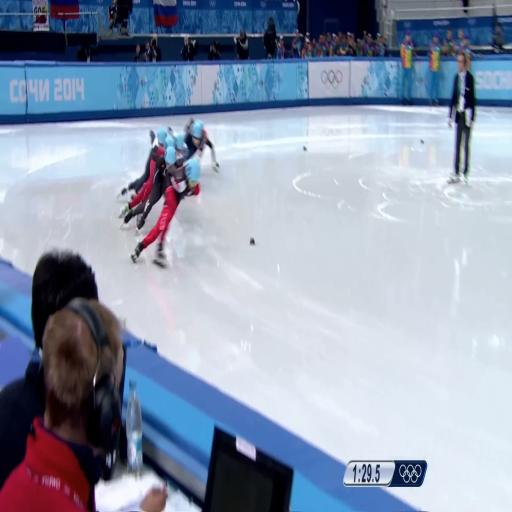Skater: (132, 148, 200, 266), (124, 156, 172, 229), (448, 54, 475, 183), (119, 128, 167, 197), (184, 119, 219, 172), (171, 132, 189, 161)
